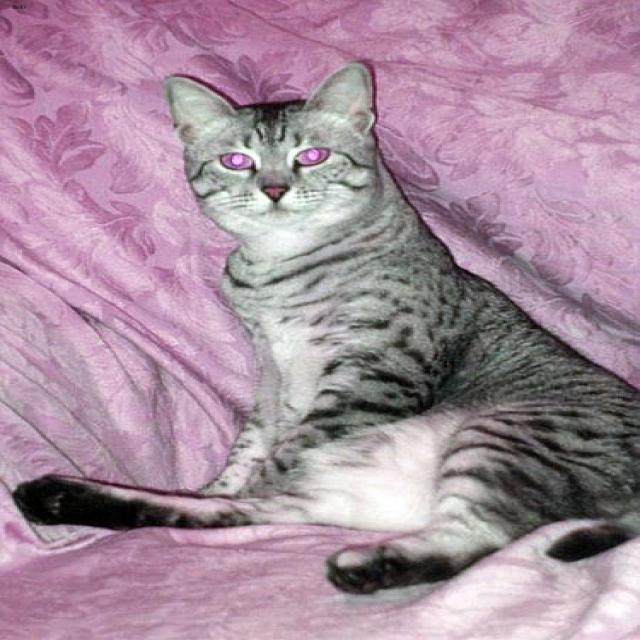Egyptian_Mau: (162, 61, 374, 224)
